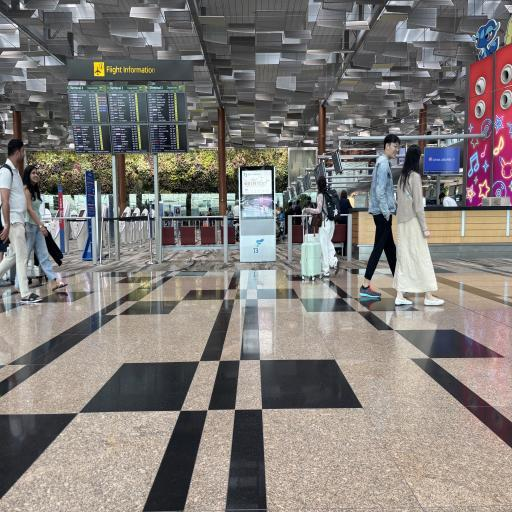person_right: (360, 116, 403, 305), (23, 159, 69, 299), (402, 142, 440, 308), (4, 134, 34, 306)
person_with_luggage_left: (300, 179, 338, 279)
